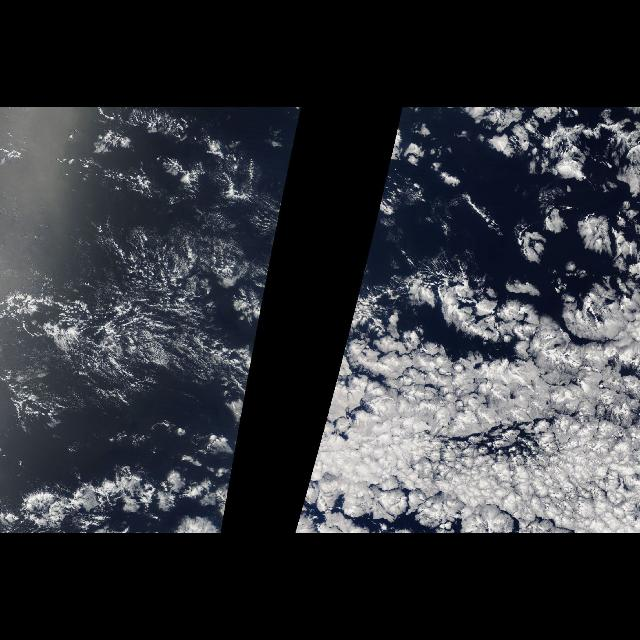Flower: (469, 120, 633, 276)
Sugar: (21, 250, 226, 382)
